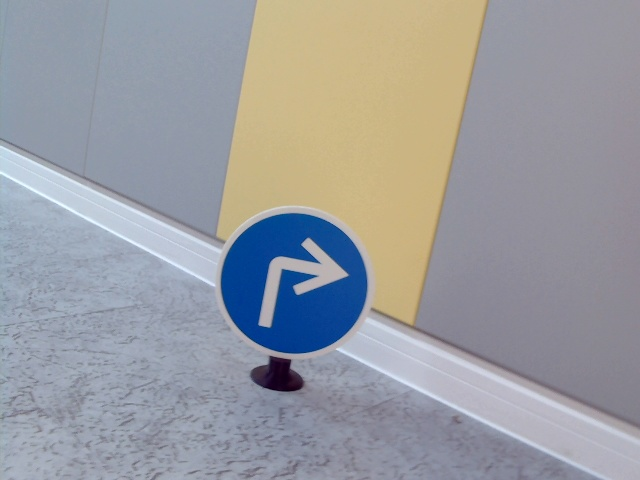turn_right: (259, 236, 342, 333)
